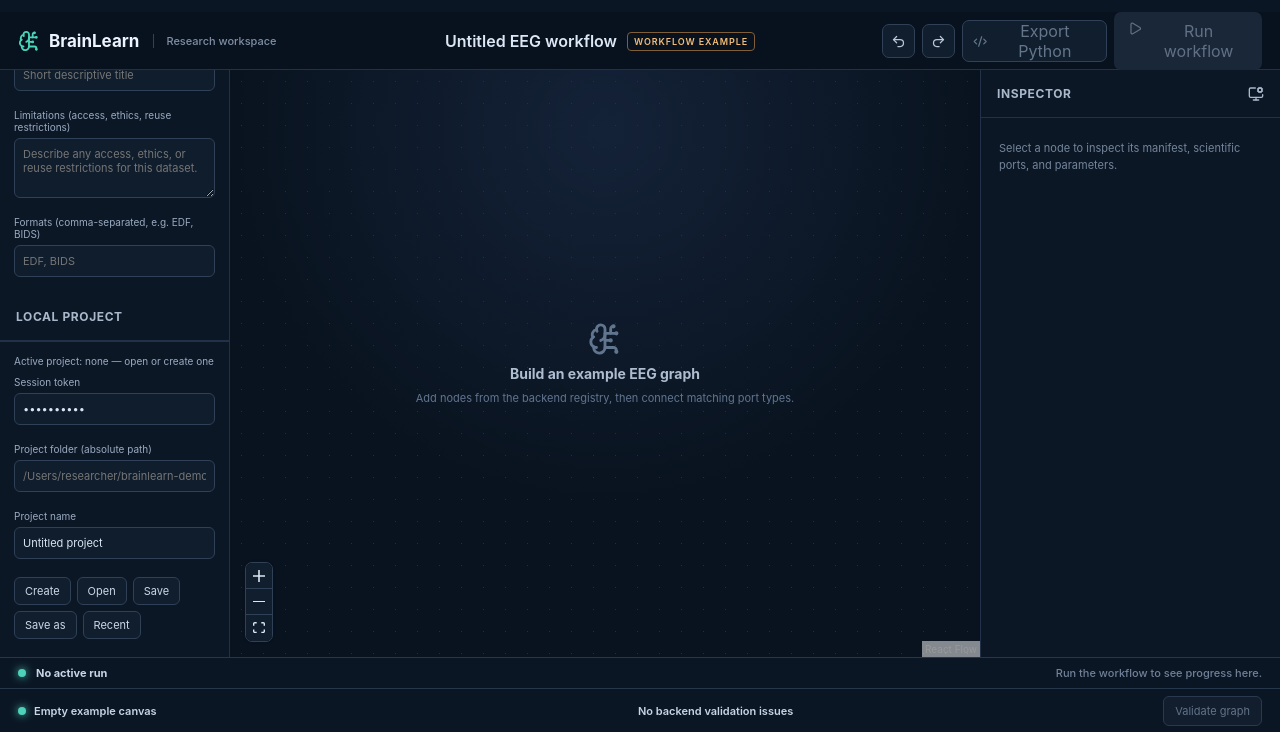
it: a dropped stream reconnects and replays without duplicates
The image size is (1280, 732).
(page scrolled)
Type "/tmp/run-project" into the field labelled "Project folder" at (114, 476), box [14, 460, 215, 492]
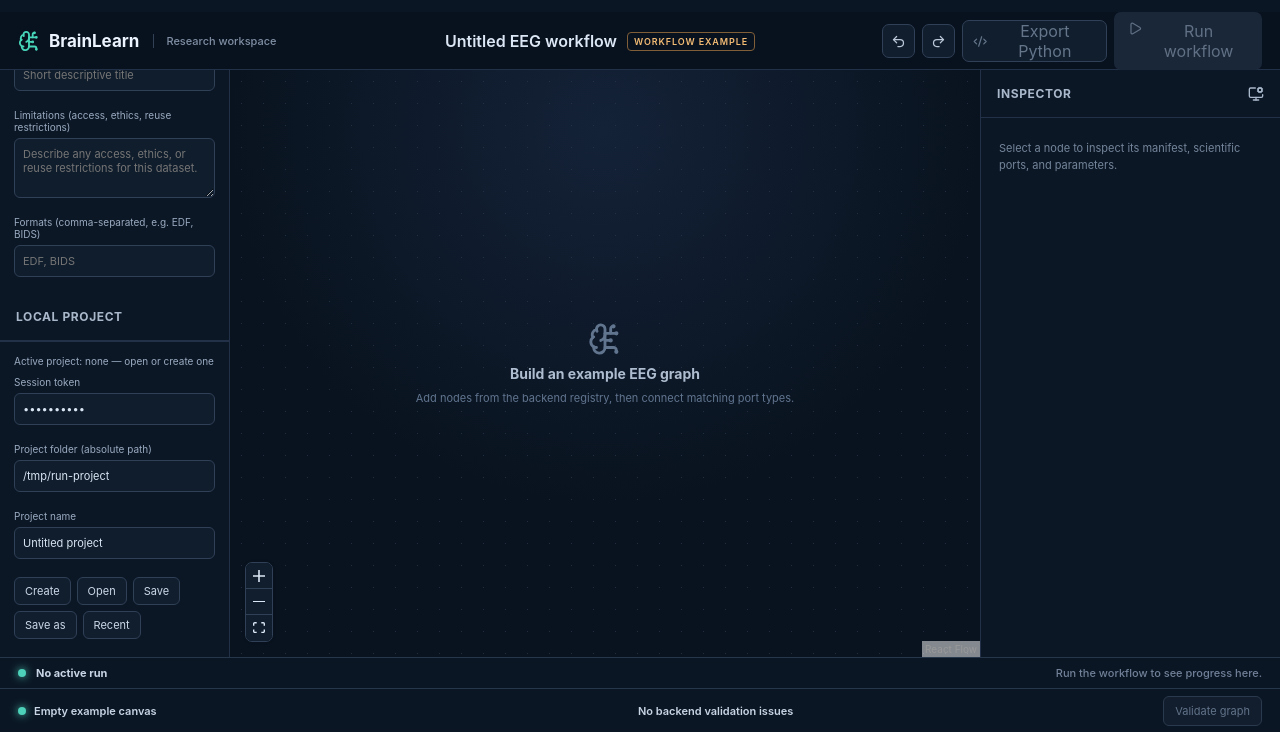
Click the button "Open" at (102, 591), box [77, 577, 127, 605]
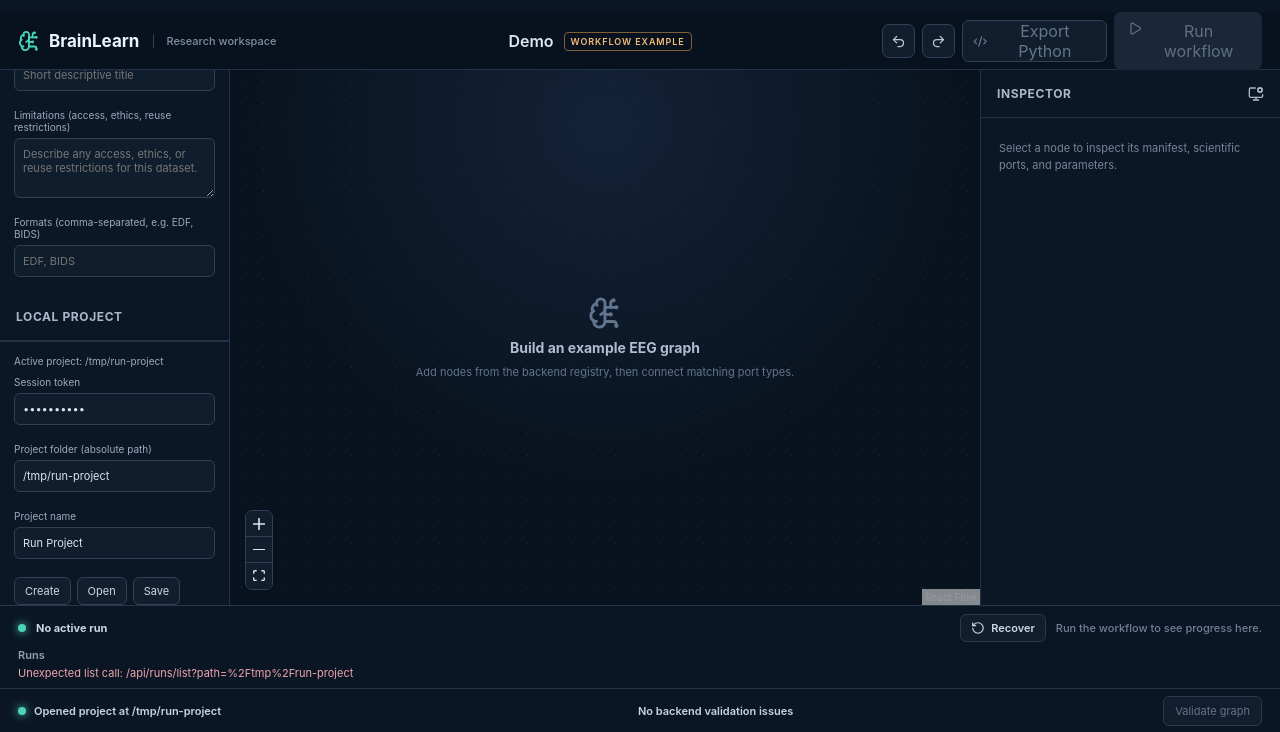
Now the text "Active project: /tmp/run-project" is shown, box [14, 355, 164, 367]
Click the button "Run workflow" at (1188, 41), box [1114, 12, 1262, 70]
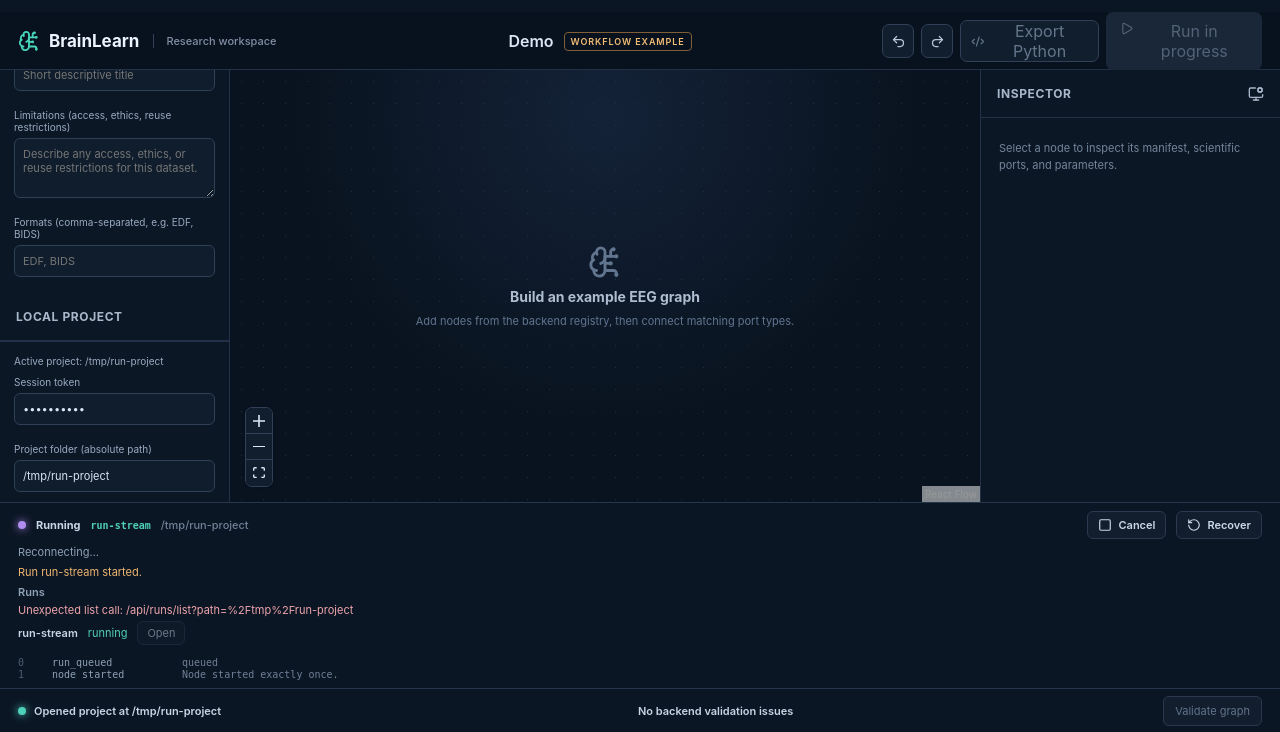
Now the text "run-stream" is shown 2 times, box [91, 520, 151, 530]; [18, 626, 78, 640]
Now the text "Live" is shown, box [18, 545, 99, 559]
Now the text "Node started exactly once." is shown once, box [182, 669, 338, 680]
